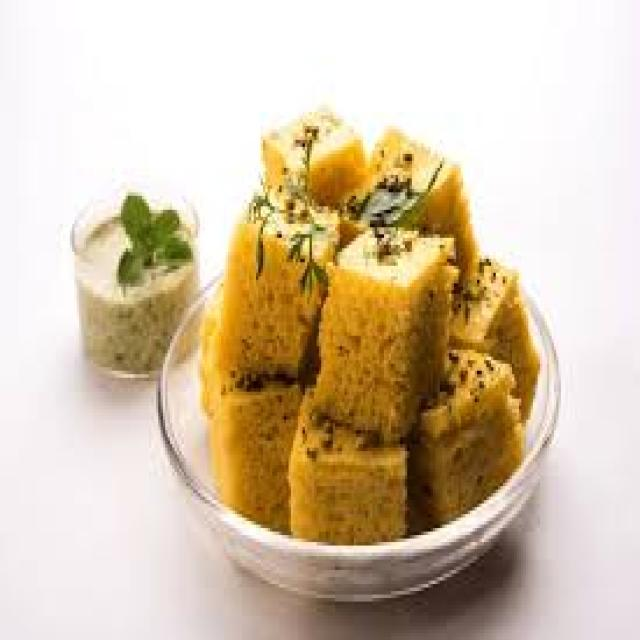DHOKLA: (309, 224, 458, 439), (338, 127, 483, 319), (211, 179, 344, 376), (202, 320, 300, 522), (416, 352, 519, 520), (293, 396, 405, 535), (453, 256, 545, 411), (265, 104, 368, 205)
